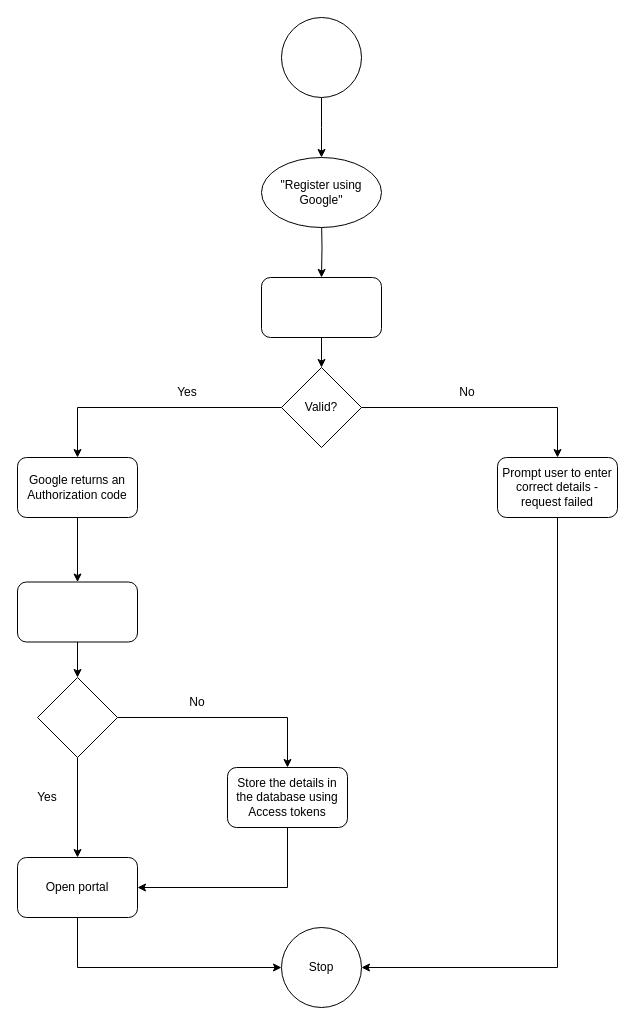
Some shapes in this 635 by 1025 pixel diagram are drawn without their labels. The shapes that lost their labels are listed below. From the top down, each one's box as (x1, y1, x2, y2) in pixels, then its label:
(280, 16, 362, 98): Start
(260, 276, 382, 338): Redirect to Google login page
(16, 581, 138, 642): Get user info using the code
(36, 676, 118, 758): Registered user?
